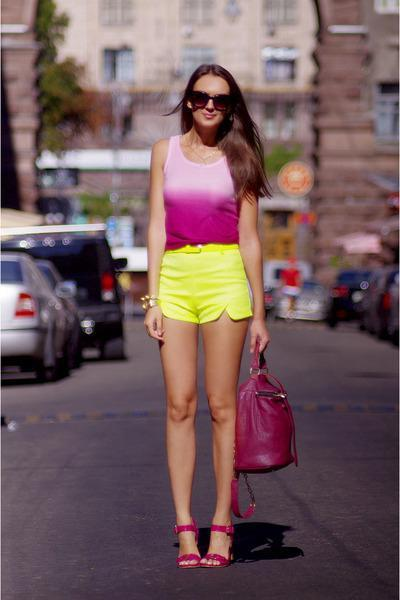skirt: (154, 242, 262, 325)
vest: (156, 134, 246, 252)
